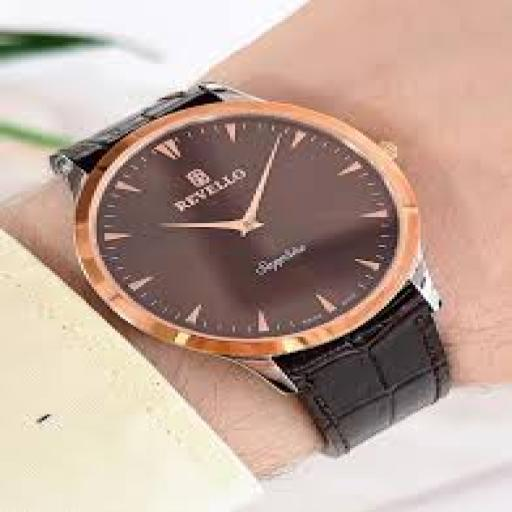KolSaati: (45, 51, 474, 473)
